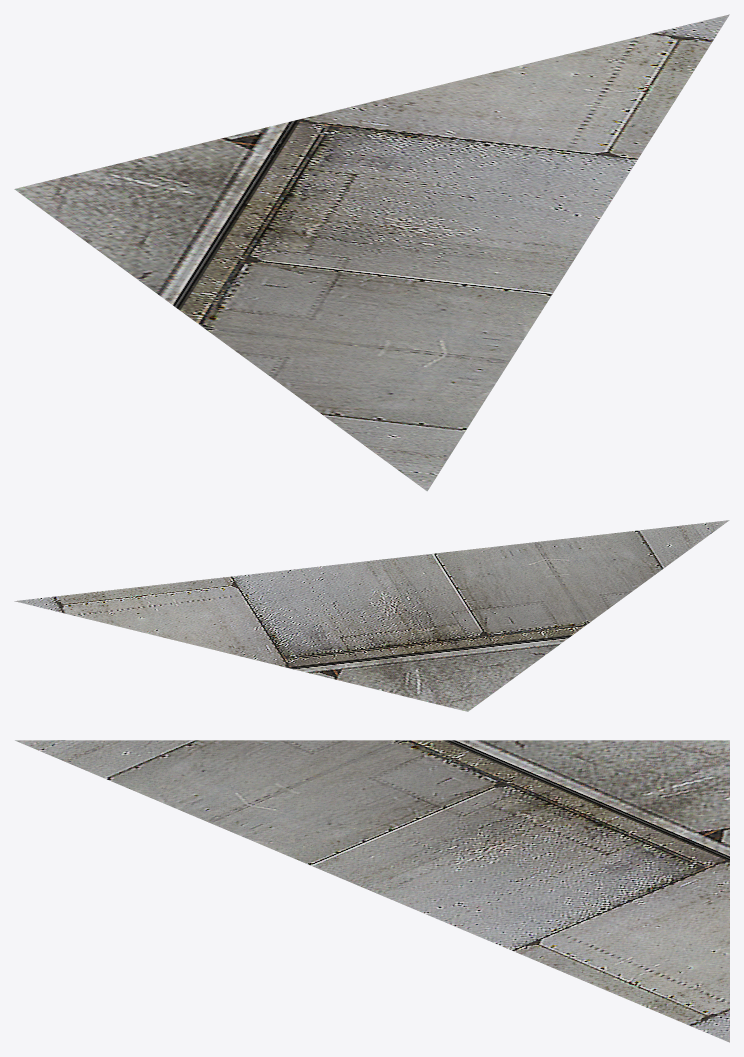
The model's file is Ceiling_C_08.fbx.
The picture shows the model from 3 angles, top to bottom: view 1: azimuth 30°, elevation 25°; view 2: azimuth 150°, elevation 25°; view 3: azimuth 270°, elevation 25°; orthographic projection. The views are drawn at different scales.
Visible parts, largest first — view 1: Ceiling_C_08; view 2: Ceiling_C_08; view 3: Ceiling_C_08.
Part boxes in pixels (x1=…): Ceiling_C_08: x1=14, y1=14, x2=729, y2=491; Ceiling_C_08: x1=14, y1=520, x2=729, y2=711; Ceiling_C_08: x1=15, y1=740, x2=729, y2=1042.
Size of the model in its own units: 300 by 0.00384 by 300.
1 material, 1 textured.
